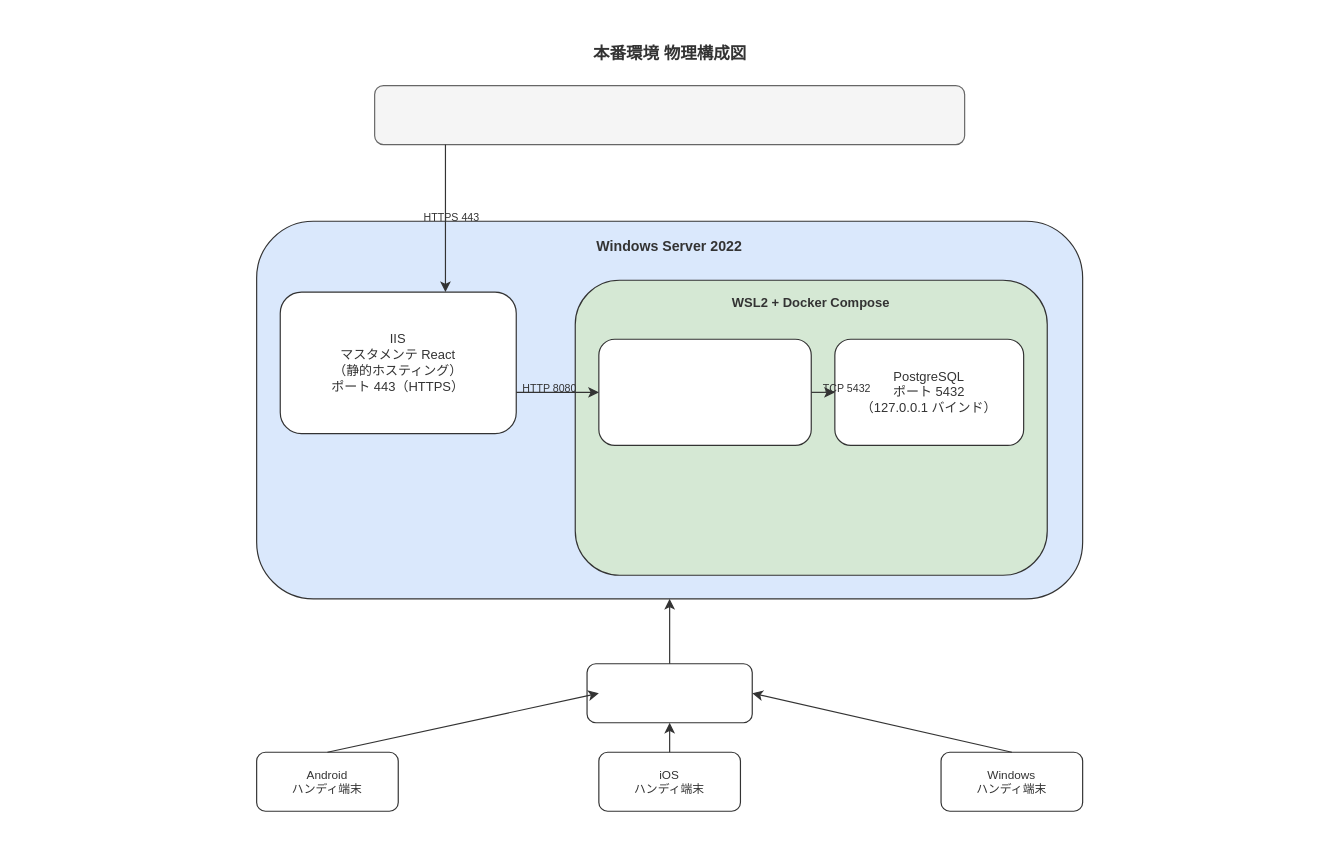
This 1338x866 diagram has some shape labels left out. Each missing label, with the centre of its shape:
axum バックエンド （Rust 2024 / tokio） ポート 8080: the point at 704,391
WiFi AP: the point at 669,693
社内 LAN: the point at 669,114
